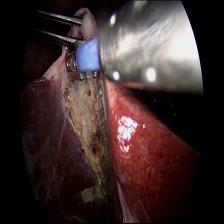Bipolar: (63, 38, 106, 90)
Grasper: (36, 17, 90, 40)
